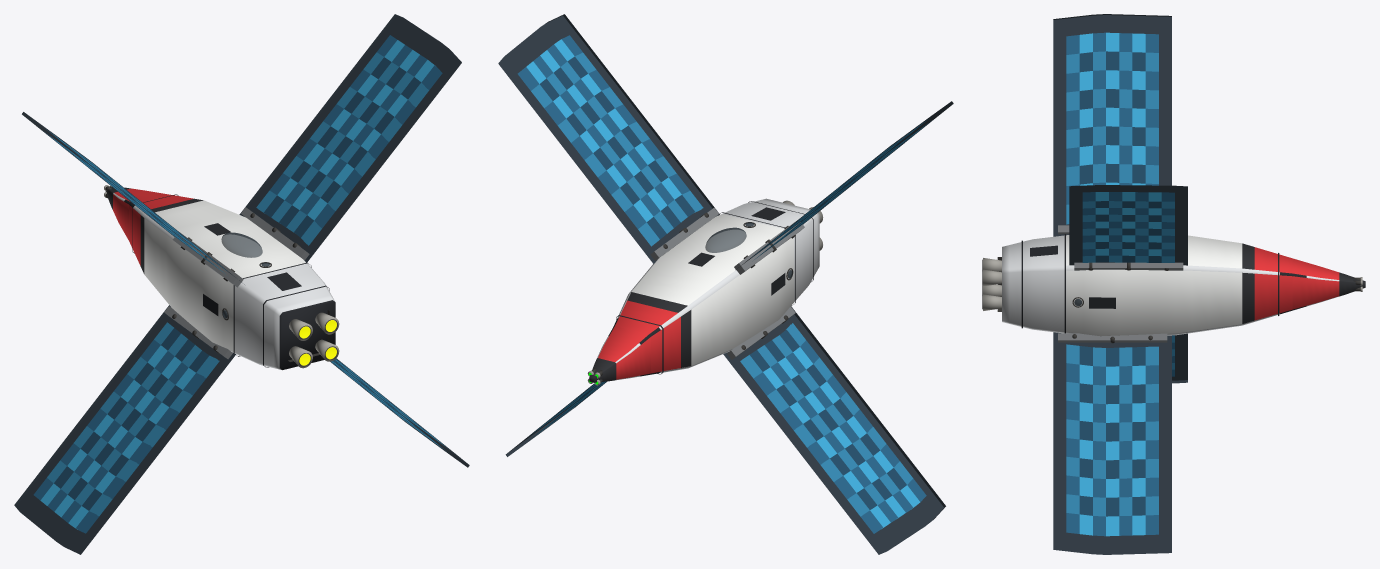
Rendered from Ship_Crosspanel_9.glb.
The picture shows the model from 3 angles, left to right: view 1: azimuth 30°, elevation 25°; view 2: azimuth 150°, elevation 25°; view 3: azimuth 270°, elevation 25°; orthographic projection. The views are drawn at different scales.
Visible parts, largest first — view 1: SolarPanelWing_LowerLeftRidge_RectangularPhotovoltaicGrid, SolarPanelWing_TopRightRidge_RectangularPhotovoltaicGrid, Fuselage_SquareBody, SolarPanelWing_TopLeftRidge_RectangularPhotovoltaicGrid, SolarPanelWing_LowerRightRidge_RectangularPhotovoltaicGrid, Nose_SquareTaperedForwardSection, Canopy_DorsalLowSquareBubble, SolarPanelWing_TopLeftRidge_RootHingeClamp, SolarPanelWing_TopRightRidge_RootHingeClamp; view 2: SolarPanelWing_LowerLeftRidge_RectangularPhotovoltaicGrid, SolarPanelWing_TopRightRidge_RectangularPhotovoltaicGrid, Fuselage_SquareBody, Nose_SquareTaperedForwardSection, SolarPanelWing_TopLeftRidge_RectangularPhotovoltaicGrid, Canopy_DorsalLowSquareBubble, SolarPanelWing_LowerRightRidge_RectangularPhotovoltaicGrid, SolarPanelWing_TopLeftRidge_RootHingeClamp, SolarPanelWing_TopRightRidge_RootHingeClamp; view 3: SolarPanelWing_LowerRightRidge_RectangularPhotovoltaicGrid, Fuselage_SquareBody, SolarPanelWing_TopLeftRidge_RectangularPhotovoltaicGrid, SolarPanelWing_TopRightRidge_RectangularPhotovoltaicGrid, Nose_SquareTaperedForwardSection, SolarPanelWing_LowerRightRidge_RootHingeClamp, SolarPanelWing_TopRightRidge_RootHingeClamp, SolarPanelWing_LowerLeftRidge_RectangularPhotovoltaicGrid.
Boxes of the visible parts, x1=… form: SolarPanelWing_LowerLeftRidge_RectangularPhotovoltaicGrid: x1=14, y1=305, x2=236, y2=554; SolarPanelWing_TopRightRidge_RectangularPhotovoltaicGrid: x1=239, y1=14, x2=461, y2=262; Fuselage_SquareBody: x1=129, y1=194, x2=335, y2=370; SolarPanelWing_TopLeftRidge_RectangularPhotovoltaicGrid: x1=22, y1=112, x2=244, y2=284; SolarPanelWing_LowerRightRidge_RectangularPhotovoltaicGrid: x1=330, y1=358, x2=469, y2=467; Nose_SquareTaperedForwardSection: x1=105, y1=186, x2=164, y2=240; Canopy_DorsalLowSquareBubble: x1=221, y1=232, x2=262, y2=257; SolarPanelWing_TopLeftRidge_RootHingeClamp: x1=172, y1=232, x2=243, y2=287; SolarPanelWing_TopRightRidge_RootHingeClamp: x1=241, y1=207, x2=309, y2=260; SolarPanelWing_LowerLeftRidge_RectangularPhotovoltaicGrid: x1=723, y1=306, x2=945, y2=554; SolarPanelWing_TopRightRidge_RectangularPhotovoltaicGrid: x1=498, y1=14, x2=719, y2=263; Fuselage_SquareBody: x1=613, y1=198, x2=819, y2=374; Nose_SquareTaperedForwardSection: x1=589, y1=326, x2=650, y2=382; SolarPanelWing_TopLeftRidge_RectangularPhotovoltaicGrid: x1=737, y1=101, x2=953, y2=268; Canopy_DorsalLowSquareBubble: x1=705, y1=227, x2=746, y2=252; SolarPanelWing_LowerRightRidge_RectangularPhotovoltaicGrid: x1=505, y1=381, x2=607, y2=456; SolarPanelWing_TopLeftRidge_RootHingeClamp: x1=734, y1=220, x2=804, y2=274; SolarPanelWing_TopRightRidge_RootHingeClamp: x1=650, y1=208, x2=718, y2=260; SolarPanelWing_LowerRightRidge_RectangularPhotovoltaicGrid: x1=1053, y1=332, x2=1171, y2=554; Fuselage_SquareBody: x1=1002, y1=235, x2=1292, y2=336; SolarPanelWing_TopLeftRidge_RectangularPhotovoltaicGrid: x1=1053, y1=14, x2=1171, y2=236; SolarPanelWing_TopRightRidge_RectangularPhotovoltaicGrid: x1=1069, y1=185, x2=1187, y2=265; Nose_SquareTaperedForwardSection: x1=1292, y1=258, x2=1365, y2=310; SolarPanelWing_LowerRightRidge_RootHingeClamp: x1=1058, y1=333, x2=1167, y2=342; SolarPanelWing_TopRightRidge_RootHingeClamp: x1=1074, y1=262, x2=1183, y2=270; SolarPanelWing_LowerLeftRidge_RectangularPhotovoltaicGrid: x1=1172, y1=333, x2=1187, y2=383.
Bounding box in the file's own units: 7.72 × 7.72 × 7.25.
